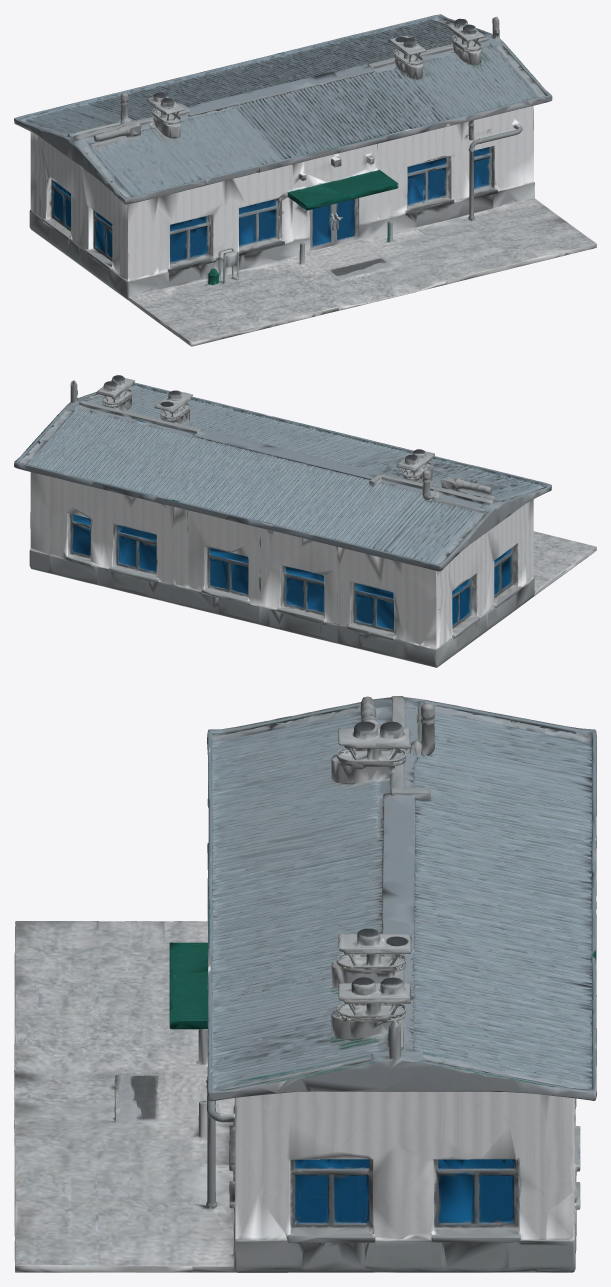
Rendered from processing-plant.glb.
3 renders of one model, top to bottom at view 1: azimuth 30°, elevation 25°; view 2: azimuth 150°, elevation 25°; view 3: azimuth 270°, elevation 25°, orthographic. The views are drawn at different scales.
Size of the model in its own units: 1.9 by 0.6584 by 1.29.
1 material, 1 textured.
